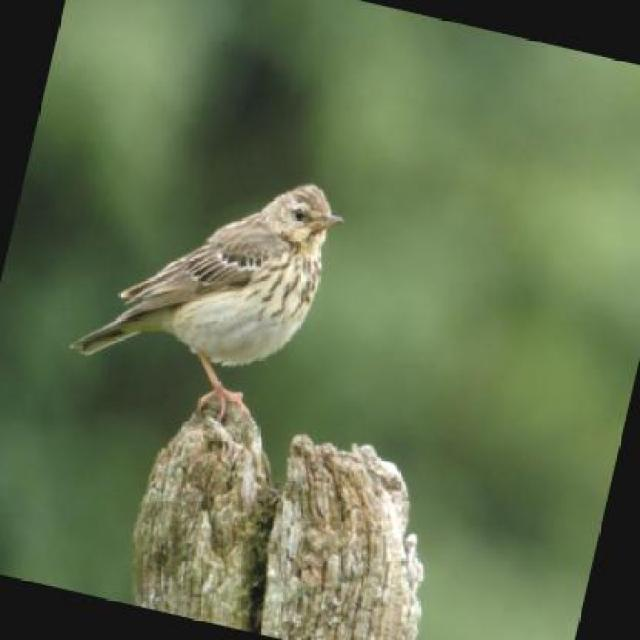Bird: (71, 159, 329, 407)
